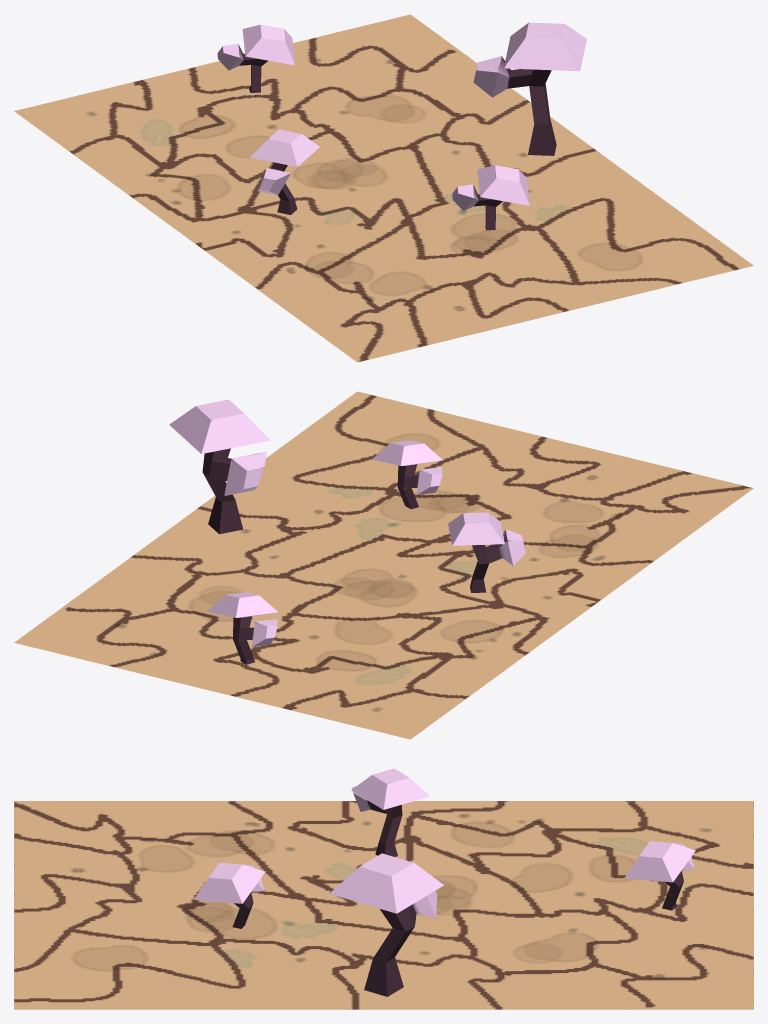
3 views of the same model, one above another, from view 1: azimuth 30°, elevation 25°; view 2: azimuth 150°, elevation 25°; view 3: azimuth 270°, elevation 25° (orthographic). The views are drawn at different scales.
Parts seen in each view (by area): view 1: Plane, Plane.001, Plane.002, Plane.004, Plane.003; view 2: Plane, Plane.001, Plane.002, Plane.004, Plane.003; view 3: Plane, Plane.001, Plane.002, Plane.004, Plane.003.
Boxes of the visible parts, x1=… form: Plane: x1=14, y1=14, x2=753, y2=362; Plane.001: x1=473, y1=22, x2=586, y2=155; Plane.002: x1=250, y1=129, x2=319, y2=214; Plane.004: x1=217, y1=24, x2=294, y2=92; Plane.003: x1=452, y1=165, x2=529, y2=230; Plane: x1=14, y1=391, x2=753, y2=739; Plane.001: x1=169, y1=399, x2=270, y2=534; Plane.002: x1=448, y1=512, x2=525, y2=592; Plane.004: x1=207, y1=592, x2=277, y2=664; Plane.003: x1=372, y1=440, x2=442, y2=509; Plane: x1=14, y1=801, x2=753, y2=1009; Plane.001: x1=329, y1=853, x2=443, y2=996; Plane.002: x1=351, y1=768, x2=429, y2=856; Plane.004: x1=624, y1=841, x2=695, y2=910; Plane.003: x1=194, y1=862, x2=264, y2=928.
Size of the model in its own units: 20.54 by 6.71 by 30.
Materials: 2 (2 with a texture image).
